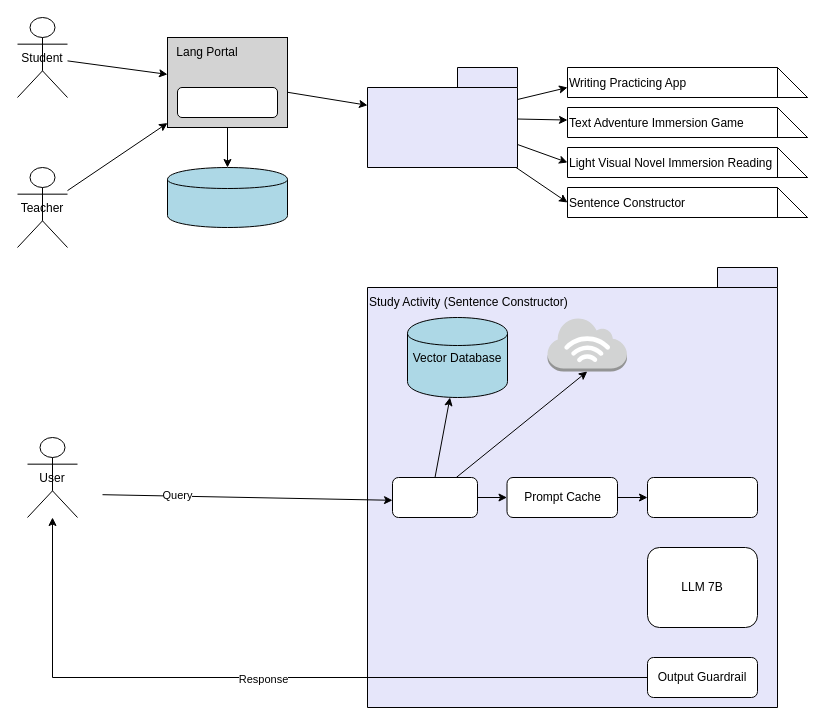
Some shapes in this 825 by 725 pixel diagram are drawn without their labels. The shapes that lost their labels are listed below. From the top down, each one's centre as x and y in pixels, then its label:
pixel 227 102: Word Group
pixel 442 117: Study Activities
pixel 227 197: Core 2000 Words
pixel 435 497: RAG
pixel 702 497: Input Guardrail
